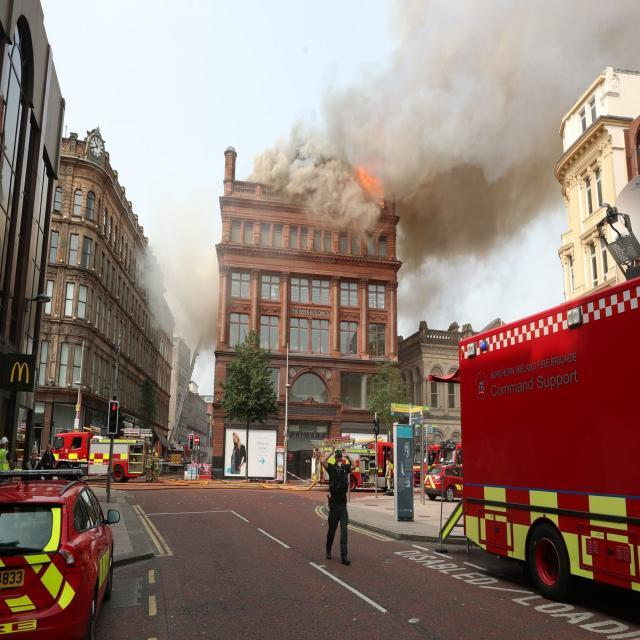Fire: (344, 153, 392, 201)
